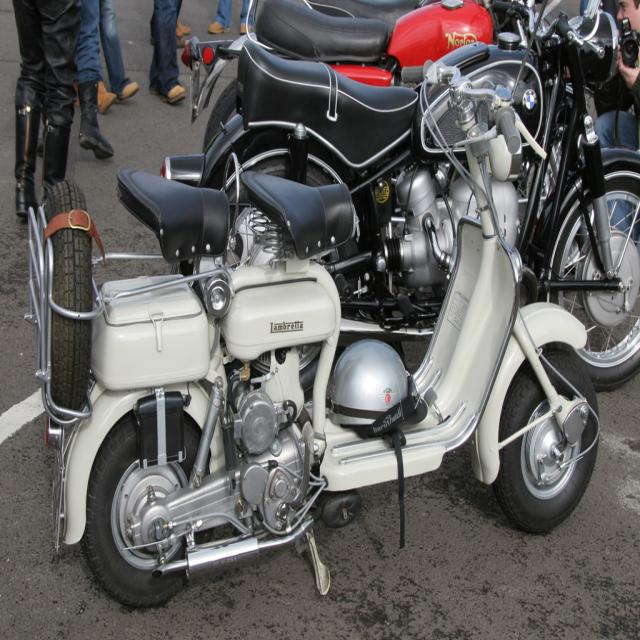Motorbikes: (26, 58, 602, 614)
